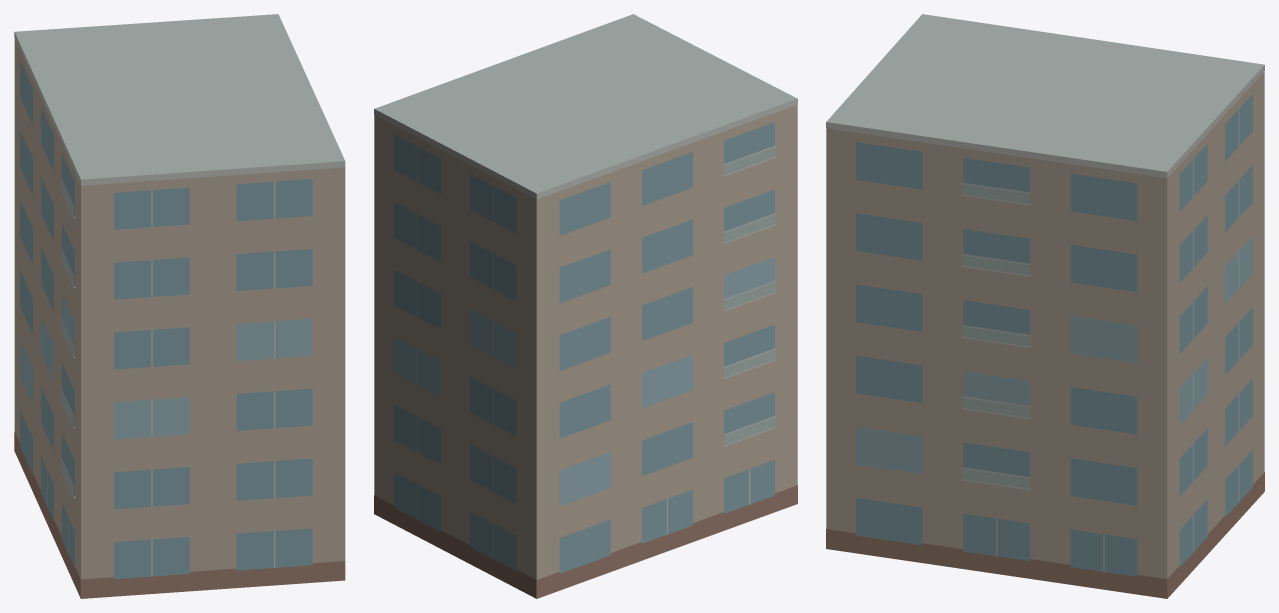
The model's file is survey-upis-32882636.glb.
3 views of the same model, side by side, from view 1: azimuth 30°, elevation 25°; view 2: azimuth 150°, elevation 25°; view 3: azimuth 270°, elevation 25° (orthographic). The views are drawn at different scales.
Visible parts, largest first — view 1: survey-upis-32882636.tmp; view 2: survey-upis-32882636.tmp; view 3: survey-upis-32882636.tmp.
Boxes of the visible parts, box(x1,y1,x2,y2) form: survey-upis-32882636.tmp: box(14, 14, 345, 598); survey-upis-32882636.tmp: box(374, 14, 797, 598); survey-upis-32882636.tmp: box(826, 14, 1264, 598).
Bounding box in the file's own units: 13.18 × 16.6 × 15.47.
